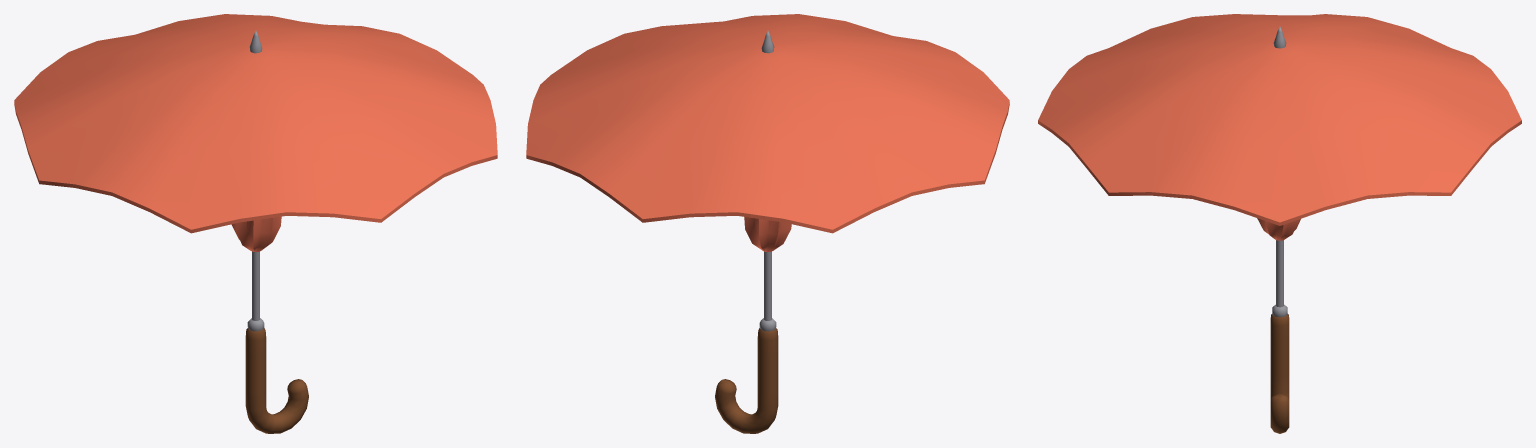
The model's file is umbrella.glb.
The picture shows the model from 3 angles, left to right: view 1: azimuth 30°, elevation 25°; view 2: azimuth 150°, elevation 25°; view 3: azimuth 270°, elevation 25°; orthographic projection. The views are drawn at different scales.
Parts seen in each view (by area): view 1: Canopy, Umbrella, Furled; view 2: Canopy, Umbrella, Furled; view 3: Canopy, Umbrella, Furled.
Boxes of the visible parts, left/top/right/bottom form: Canopy: left=14, top=14, right=497, bottom=233; Umbrella: left=245, top=30, right=308, bottom=433; Furled: left=231, top=216, right=281, bottom=251; Canopy: left=526, top=14, right=1009, bottom=233; Umbrella: left=715, top=30, right=778, bottom=433; Furled: left=744, top=217, right=791, bottom=252; Canopy: left=1038, top=14, right=1521, bottom=225; Umbrella: left=1270, top=26, right=1289, bottom=433; Furled: left=1257, top=218, right=1300, bottom=240.
Bounding box in the file's own units: 1 × 0.9 × 1.
